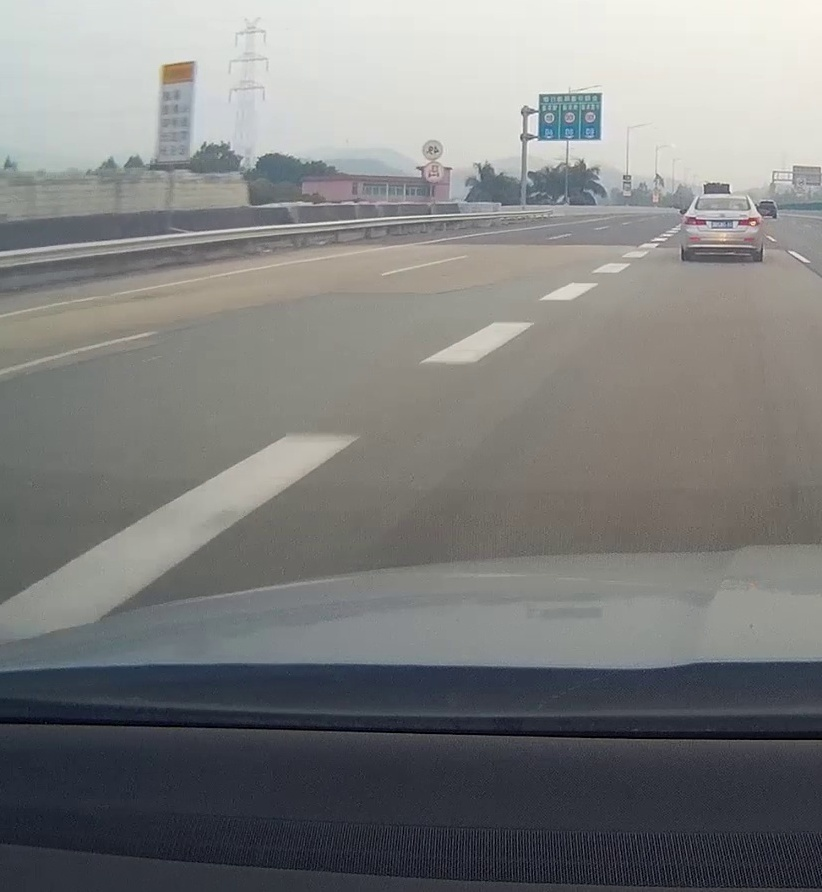L_light: (685, 216, 706, 226)
R_light: (737, 217, 761, 226)
T_light: (717, 198, 728, 201)
day-right: (681, 194, 763, 263)
